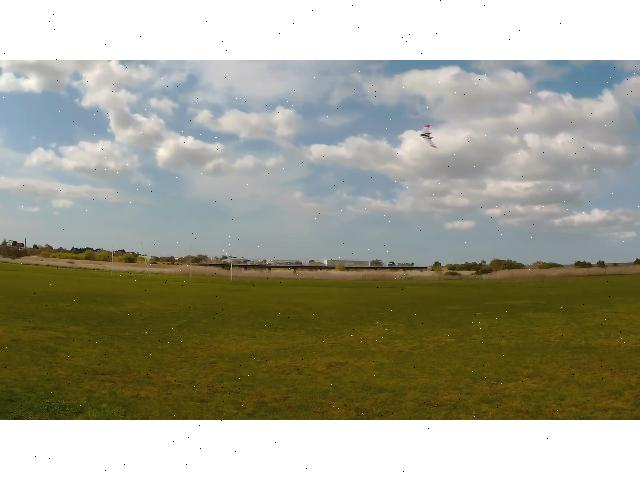Anti-Drone: (420, 125, 438, 148)
